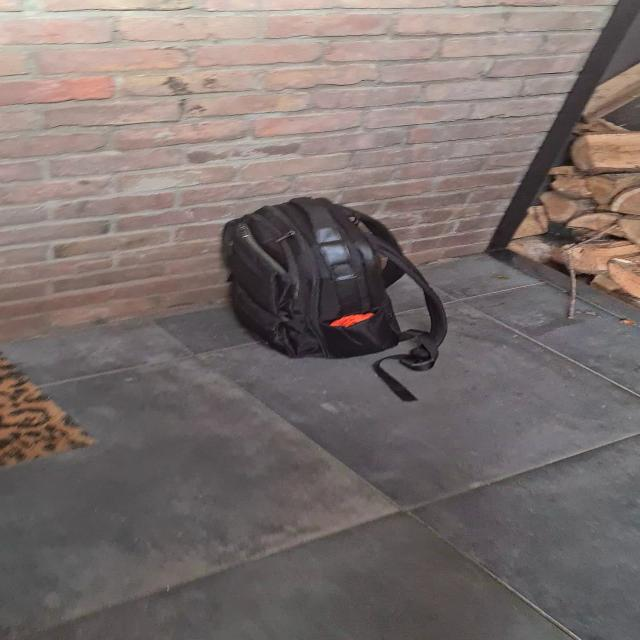backpack: (210, 192, 418, 362)
